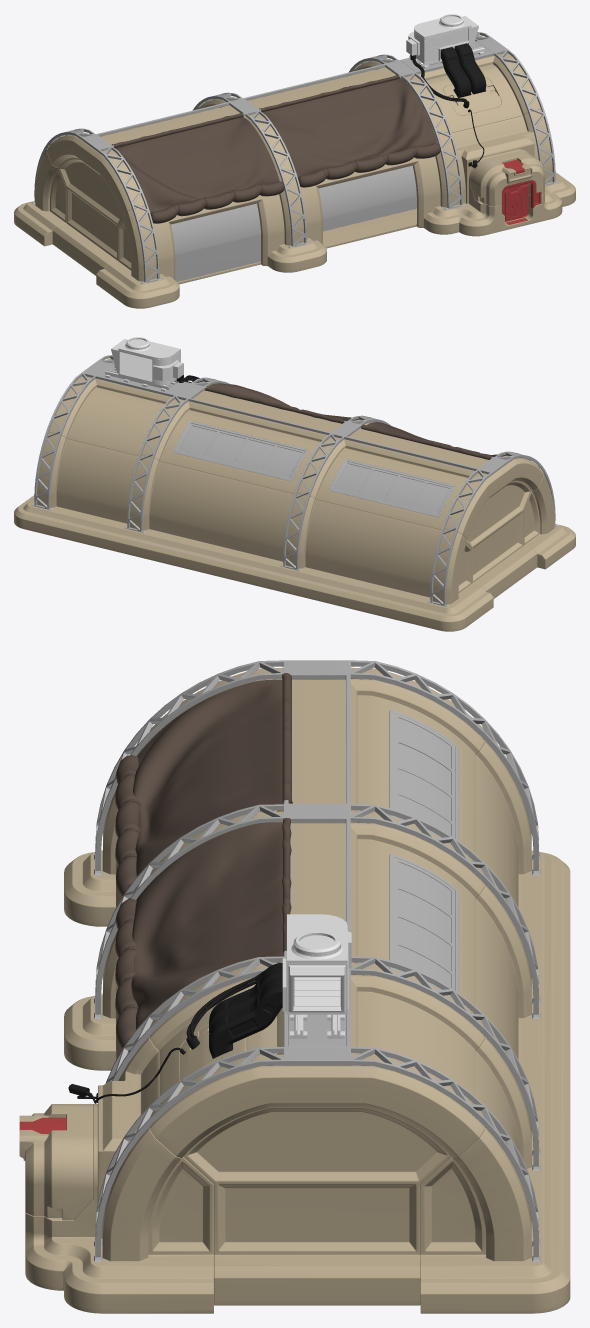
File: building_finish_uv2.fbx
3 views of the same model, one above another, from view 1: azimuth 30°, elevation 25°; view 2: azimuth 150°, elevation 25°; view 3: azimuth 270°, elevation 25° (orthographic). The views are drawn at different scales.
Parts seen in each view (by area): view 1: Building, Building.Slice.012, Cloth.002, Cloth.001, Reinformcement, GarageDoor, Building.Slice.010, AirConditioner, ClothBundle.002, ClothBundle.001, Airducts, Building.Slice.001 (+2 smaller); view 2: Building, Building.Slice.012, Reinformcement, Windows, WindowBorder, AirConditioner, Cloth.002, Cloth.001; view 3: Building.Slice.012, Building, Reinformcement, Cloth.002, Cloth.001, Windows, AirConditioner, Building.Slice.010, WindowBorder, Airducts, ClothBundle.001, ClothBundle.002 (+2 smaller).
Part boxes in pixels (<box>): Building: <box>14,109,575,308</box>; Building.Slice.012: <box>46,36,540,275</box>; Cloth.002: <box>259,74,437,177</box>; Cloth.001: <box>112,112,279,213</box>; Reinformcement: <box>34,32,555,282</box>; GarageDoor: <box>171,165,416,281</box>; Building.Slice.010: <box>470,150,544,206</box>; AirConditioner: <box>406,14,484,68</box>; ClothBundle.002: <box>298,143,440,187</box>; ClothBundle.001: <box>150,181,284,223</box>; Airducts: <box>440,43,486,97</box>; Building.Slice.001: <box>443,77,501,115</box>; Building: <box>14,432,575,631</box>; Building.Slice.012: <box>49,359,543,598</box>; Reinformcement: <box>34,355,555,605</box>; Windows: <box>179,426,449,512</box>; WindowBorder: <box>173,421,455,517</box>; AirConditioner: <box>105,337,183,391</box>; Cloth.002: <box>204,383,359,423</box>; Cloth.001: <box>361,422,506,459</box>; Building.Slice.012: <box>149,667,484,1305</box>; Building: <box>25,741,570,1313</box>; Reinformcement: <box>95,660,539,1257</box>; Cloth.002: <box>131,818,291,1029</box>; Cloth.001: <box>133,673,292,876</box>; Windows: <box>398,718,450,996</box>; AirConditioner: <box>282,914,351,1038</box>; Building.Slice.010: <box>19,1104,93,1220</box>; WindowBorder: <box>389,710,459,997</box>; Airducts: <box>209,963,282,1058</box>; ClothBundle.001: <box>115,755,139,899</box>; ClothBundle.002: <box>115,899,137,1052</box>.
Bounding box in the file's own units: 3343 × 1092 × 1774.
